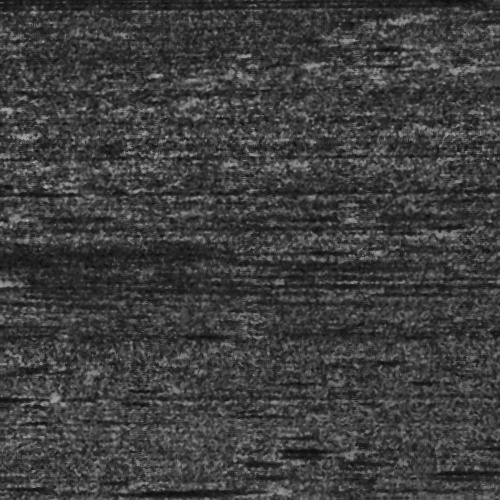object: (218, 485, 291, 494), (6, 387, 47, 398), (331, 447, 384, 452), (489, 468, 500, 473)
shadow: (140, 485, 254, 494), (419, 468, 500, 473), (295, 447, 357, 452), (0, 387, 26, 398)
